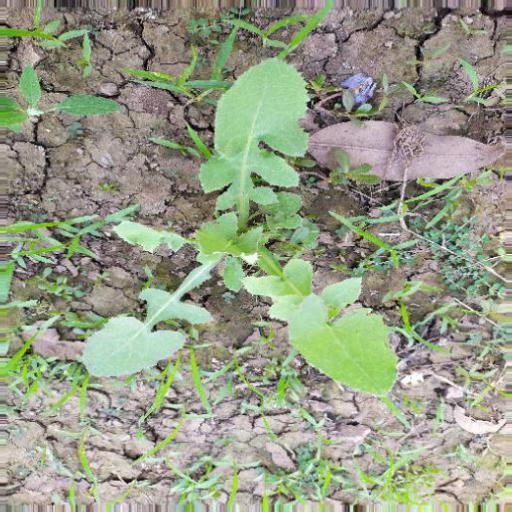weed: (76, 43, 462, 427)
